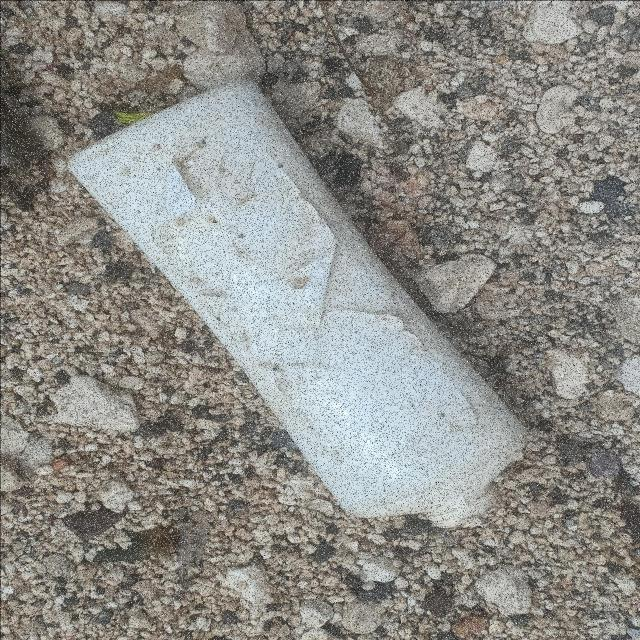plastic_waste: (63, 79, 533, 532)
